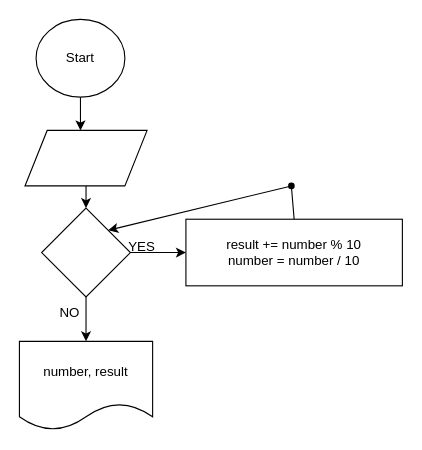
Some shapes in this 422 by 450 pixel diagram are drawn without their labels. Each missing label, with the centre of its shape:
int number string result: [85,157]
number > 0: [85,252]
